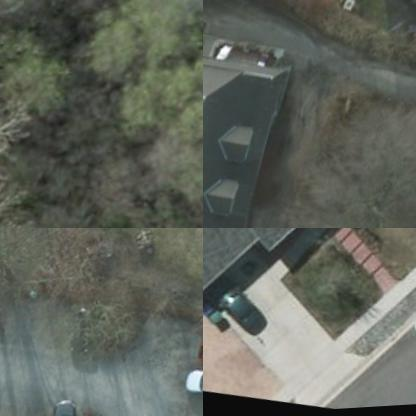car: (184, 362, 202, 407), (53, 394, 90, 415)
pickup: (203, 261, 281, 342)
